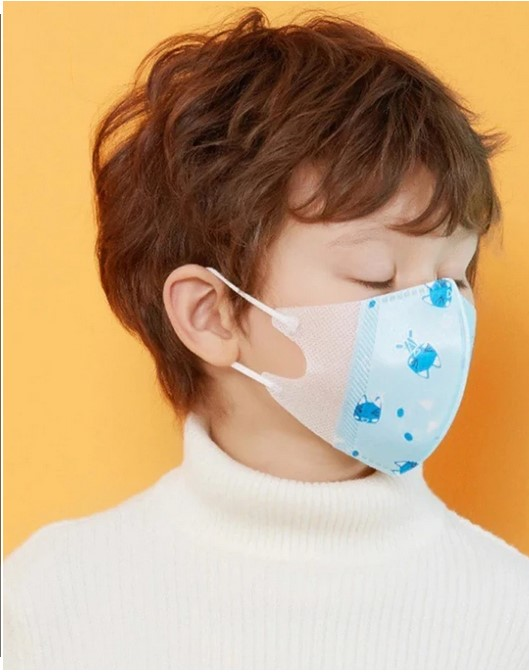face_with_mask: (115, 38, 501, 487)
